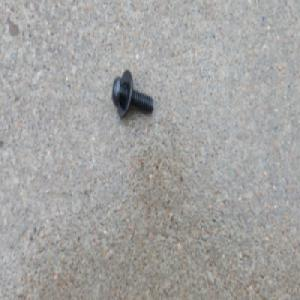BoltWasher: (111, 69, 154, 120)
